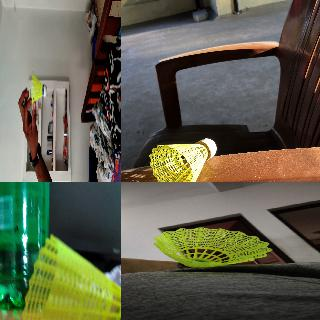shuttlecock: (20, 234, 120, 319), (152, 228, 271, 268), (149, 138, 216, 181), (30, 74, 46, 103)
